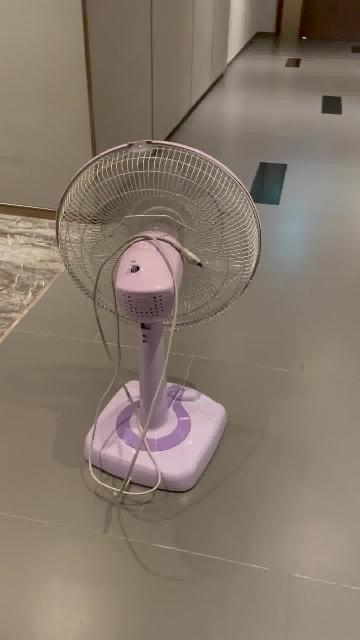Fan: (56, 140, 262, 495)
